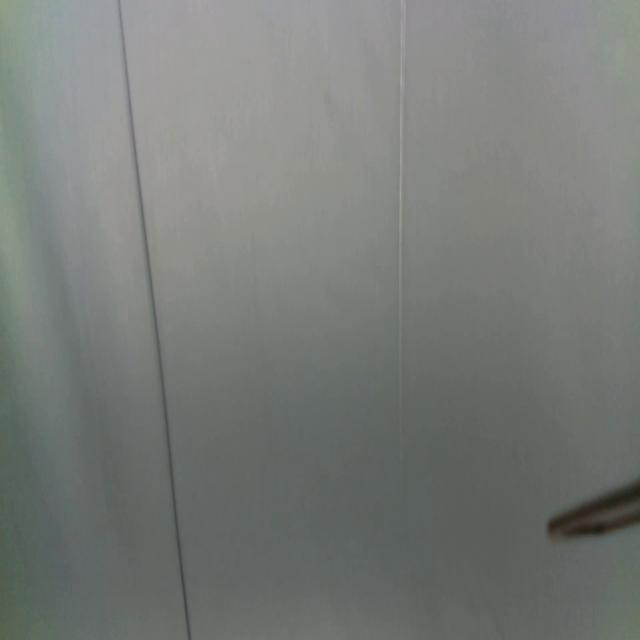crease: (115, 0, 192, 640), (397, 0, 409, 421)
